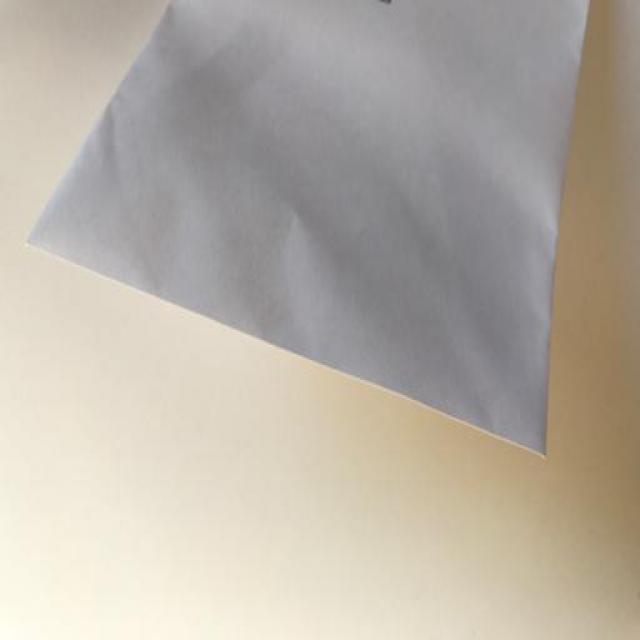paper: (11, 1, 607, 479)
